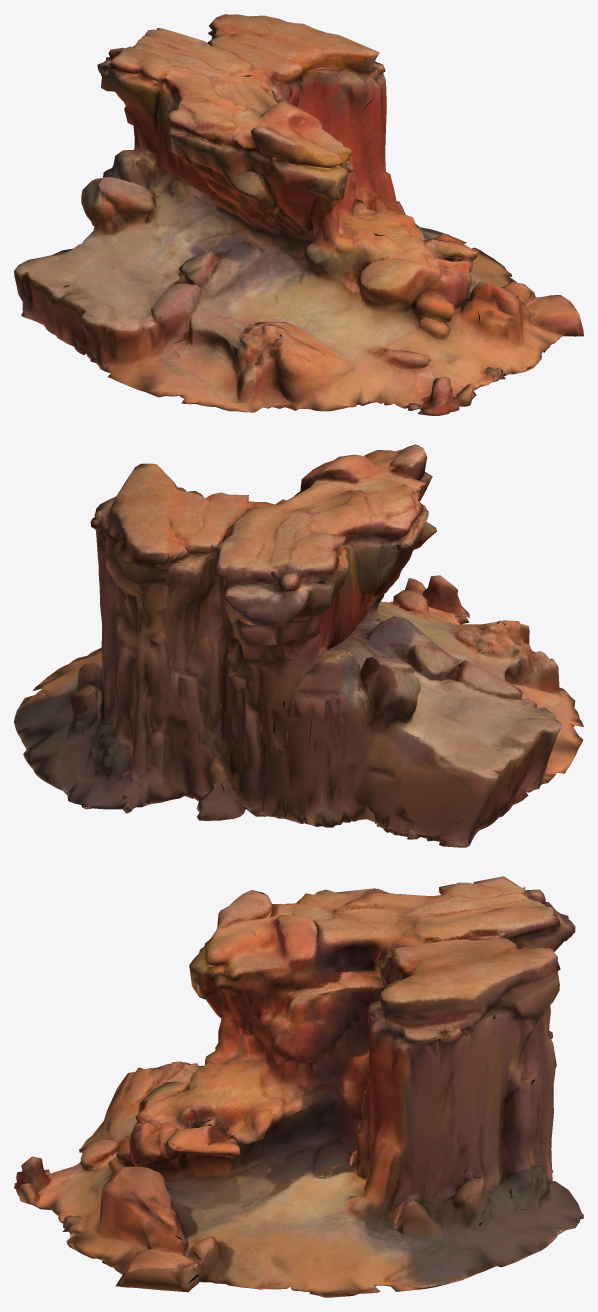
Rendered from mesa_plateau_b.glb.
The picture shows the model from 3 angles, top to bottom: view 1: azimuth 30°, elevation 25°; view 2: azimuth 150°, elevation 25°; view 3: azimuth 270°, elevation 25°; orthographic projection. The views are drawn at different scales.
Parts seen in each view (by area): view 1: mesa_plateau_b_00; view 2: mesa_plateau_b_00; view 3: mesa_plateau_b_00.
Part boxes in pixels (x1,y1,x2,y2): mesa_plateau_b_00: [14, 14, 583, 415]; mesa_plateau_b_00: [14, 444, 583, 847]; mesa_plateau_b_00: [14, 876, 583, 1297].
Size of the model in its own units: 1.83 by 0.9416 by 1.88.
1 material, 1 textured.
